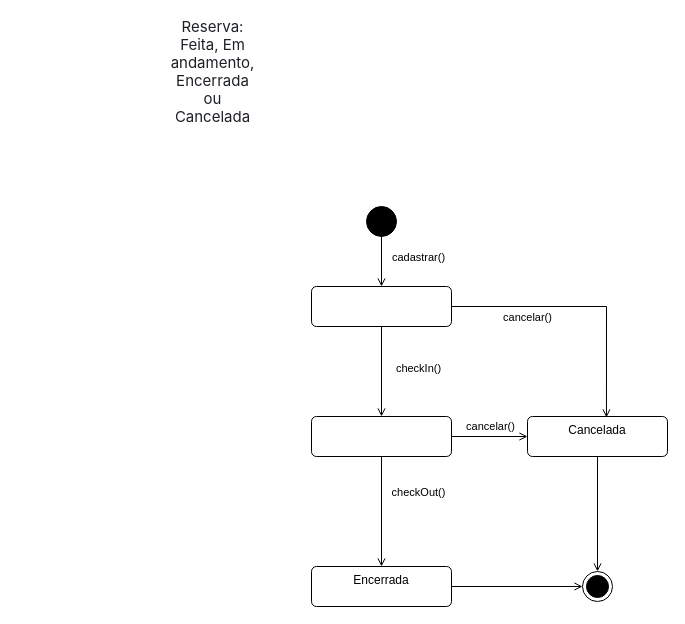
Some shapes in this 685 by 624 pixel diagram are drawn without their labels. The centre of each missing label's shape, as x and y in pixels:
"Em Andamento" goes at [381,436].
"Feita" goes at [381,306].
